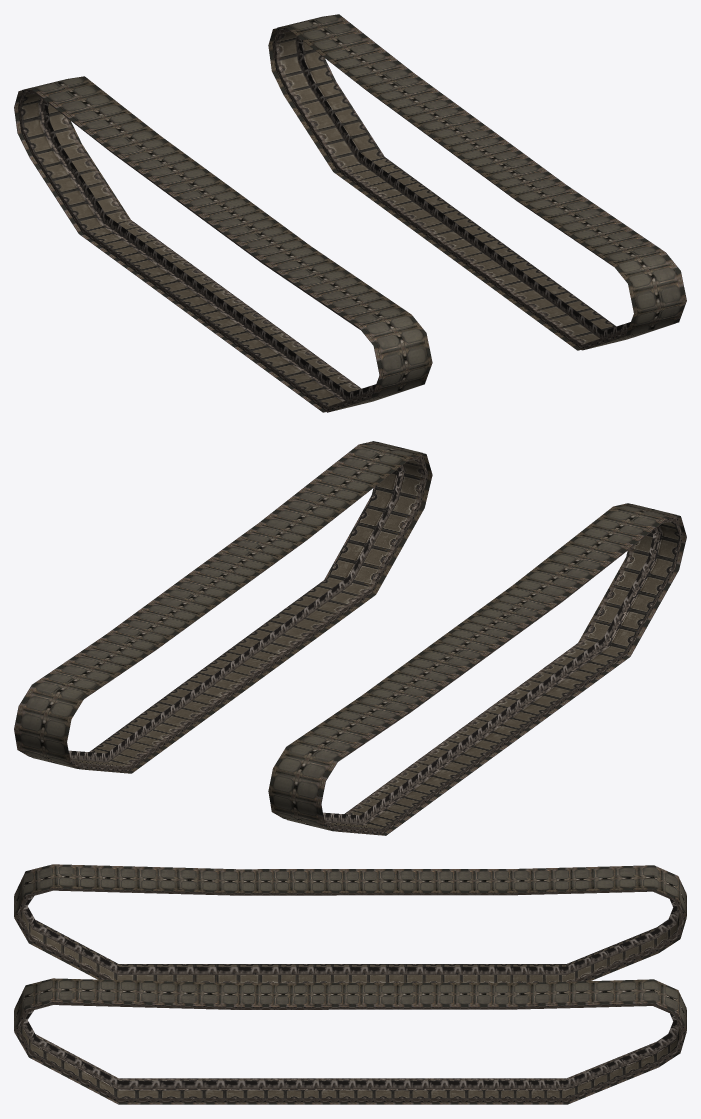
File: track.glb
3 renders of one model, top to bottom at view 1: azimuth 30°, elevation 25°; view 2: azimuth 150°, elevation 25°; view 3: azimuth 270°, elevation 25°, orthographic. The views are drawn at different scales.
Visible parts, largest first — view 1: Track_L, Track_R; view 2: Track_L, Track_R; view 3: Track_R, Track_L.
Part boxes in pixels (x1,y1,x2,y2): Track_L: (14,76,432,412); Track_R: (268,14,686,350); Track_L: (268,503,686,835); Track_R: (14,441,432,773); Track_R: (14,978,686,1104); Track_L: (14,864,686,983).
Bounding box in the file's own units: 3.46 × 1.2 × 7.13.
2 materials, 2 textured.
